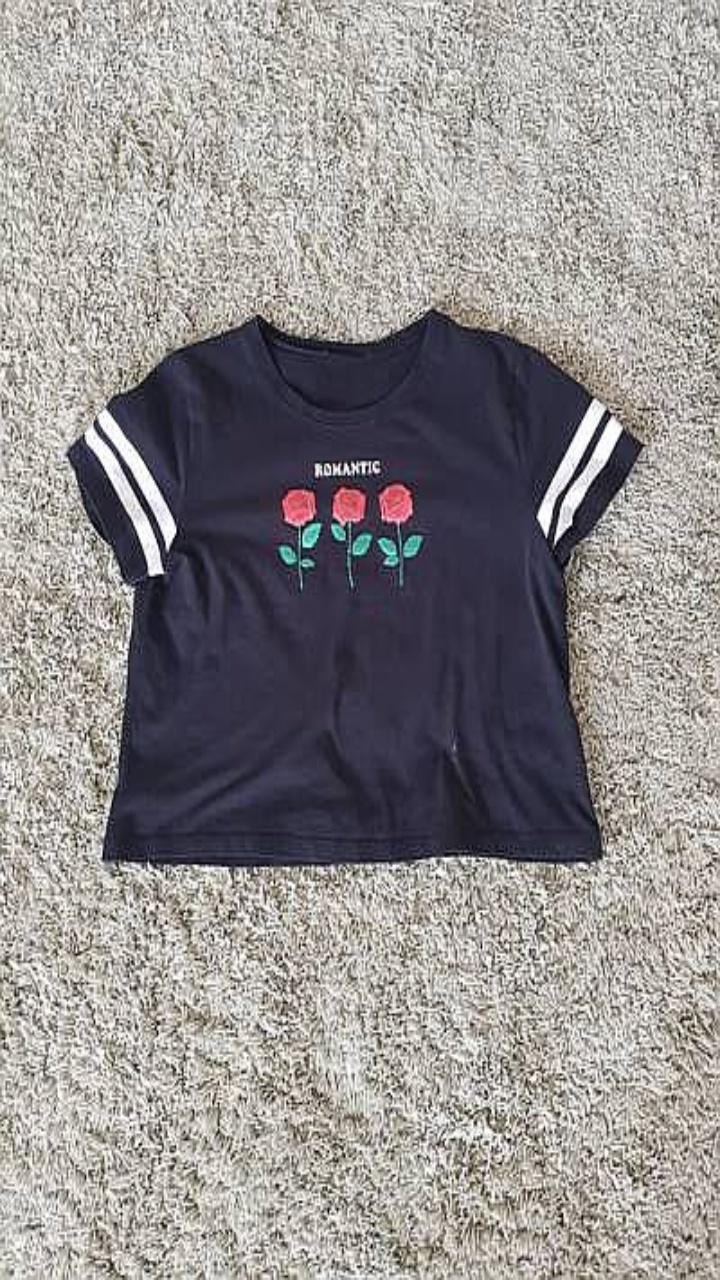T-Shirt: (66, 309, 643, 864)
